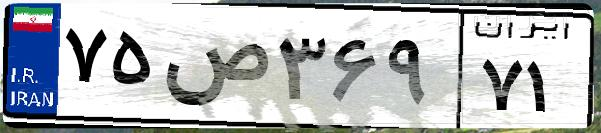1: (525, 38, 570, 115)
3: (270, 28, 330, 110)
5: (110, 28, 158, 98)
6: (330, 28, 385, 110)
7: (57, 26, 110, 100), (475, 38, 525, 113)
9: (385, 28, 445, 110)
ص: (158, 20, 270, 120)
